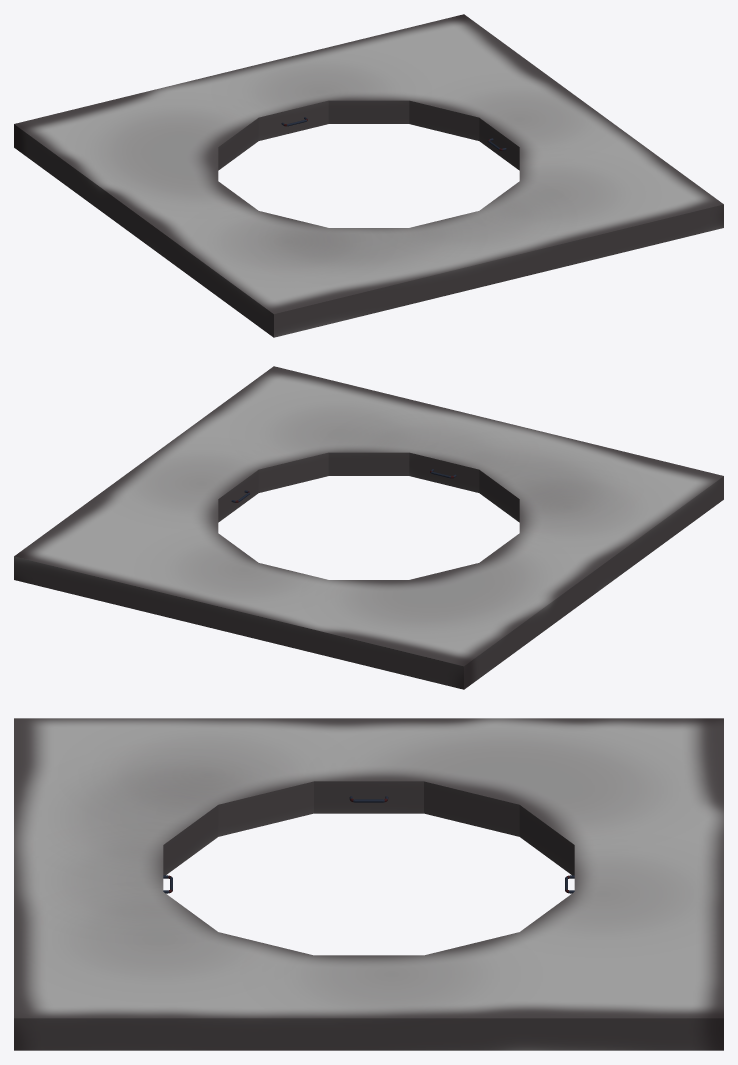
The model's file is floorHolePanel.dae.
3 views of the same model, one above another, from view 1: azimuth 30°, elevation 25°; view 2: azimuth 150°, elevation 25°; view 3: azimuth 270°, elevation 25° (orthographic). The views are drawn at different scales.
Parts seen in each view (by area): view 1: Cube.001; view 2: Cube.001; view 3: Cube.001.
Boxes of the visible parts, box(x1,y1,x2,y2) form: Cube.001: box(14, 14, 723, 337); Cube.001: box(14, 366, 723, 689); Cube.001: box(14, 718, 723, 1050).
Size of the model in its own units: 2 by 2 by 0.1.
1 material, 1 textured.
